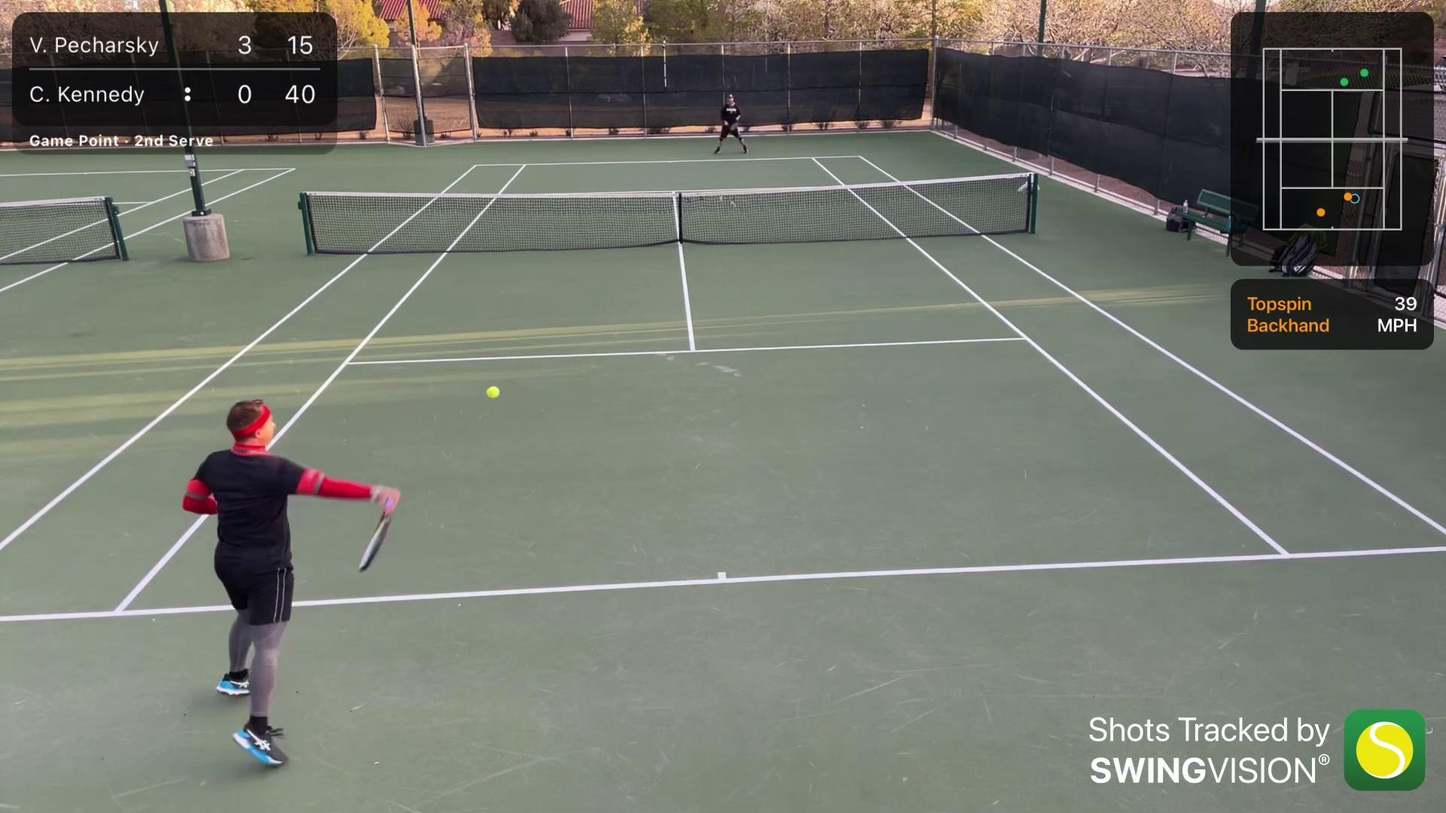ball: (483, 385, 504, 400)
